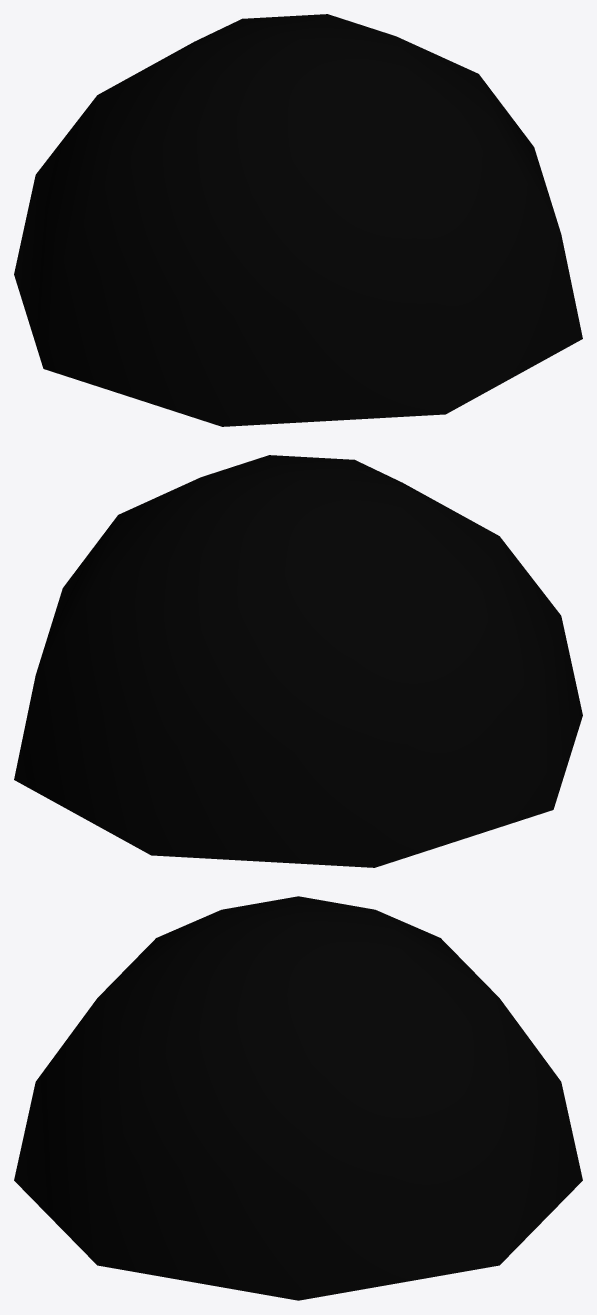
File: breadStationMainObject.fbx
3 renders of one model, top to bottom at view 1: azimuth 30°, elevation 25°; view 2: azimuth 150°, elevation 25°; view 3: azimuth 270°, elevation 25°, orthographic. The views are drawn at different scales.
Parts seen in each view (by area): view 1: breadDarkOutGeo; view 2: breadDarkOutGeo; view 3: breadDarkOutGeo.
Part boxes in pixels (box(x1,y1,x2,y2)): breadDarkOutGeo: box(14, 14, 582, 426); breadDarkOutGeo: box(14, 455, 582, 867); breadDarkOutGeo: box(14, 896, 582, 1300).
Size of the model in its own units: 17.87 by 8.99 by 17.87.
